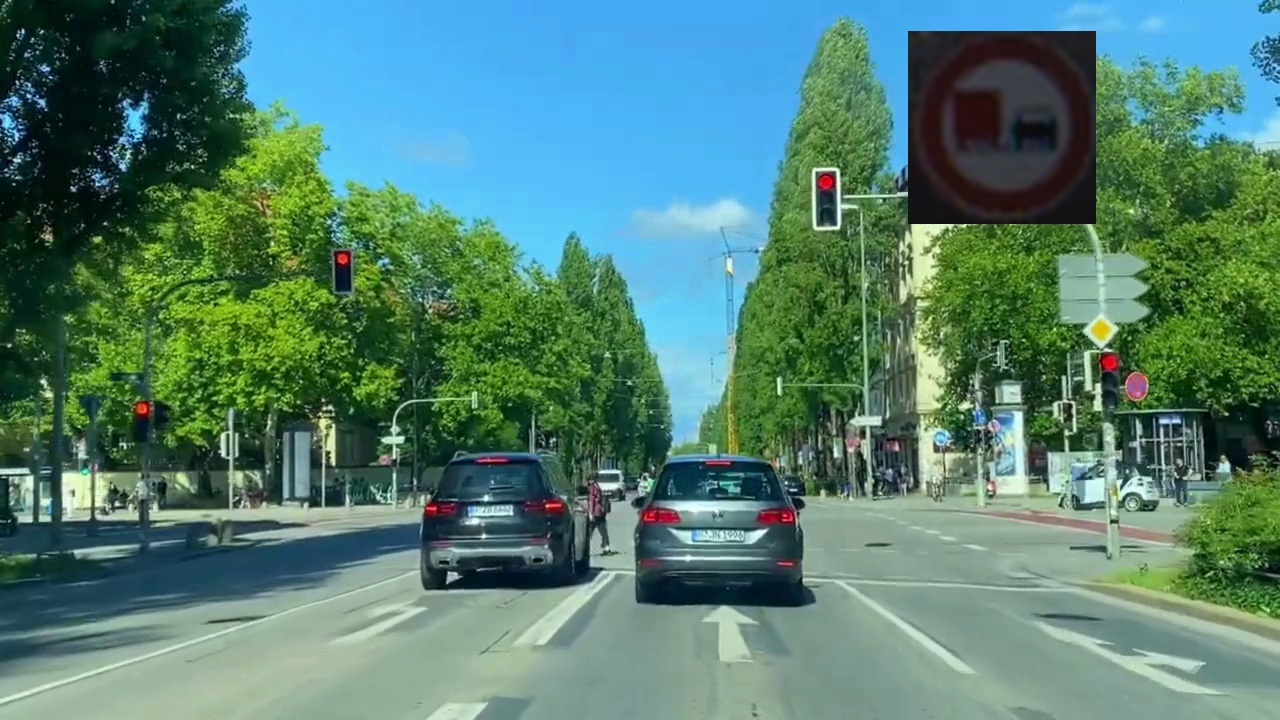No pass >3.5t: (908, 31, 1096, 224)
